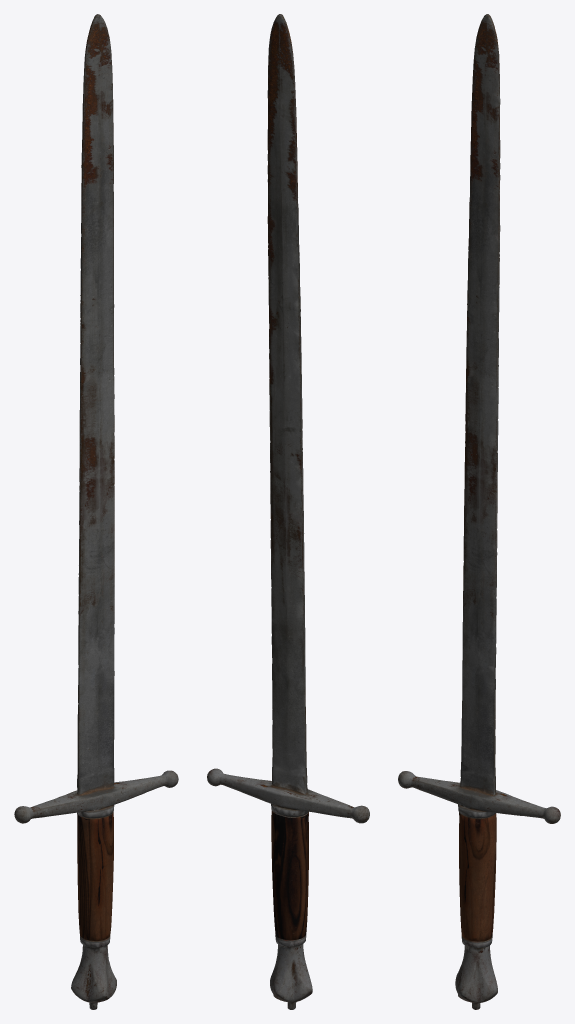
The model's file is sword_uitlbiaga_mid.glb.
3 renders of one model, left to right at view 1: azimuth 30°, elevation 25°; view 2: azimuth 150°, elevation 25°; view 3: azimuth 330°, elevation 25°, orthographic.
Parts seen in each view (by area): view 1: uitlbiaga_LOD0_TIER2_000; view 2: uitlbiaga_LOD0_TIER2_000; view 3: uitlbiaga_LOD0_TIER2_000.
Boxes of the visible parts, left/top/right/bottom form: uitlbiaga_LOD0_TIER2_000: left=14, top=14, right=178, bottom=1009; uitlbiaga_LOD0_TIER2_000: left=207, top=14, right=369, bottom=1009; uitlbiaga_LOD0_TIER2_000: left=398, top=14, right=560, bottom=1009.
Size of the model in its own units: 0.1753 by 1.03 by 0.0463.
1 material, 1 textured.
